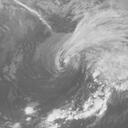cyclone: (53, 48, 74, 75)
